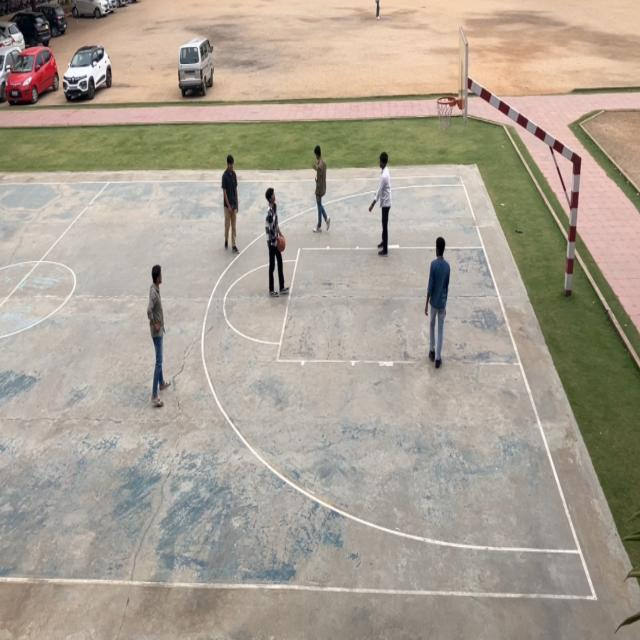basketball: (278, 233, 286, 253)
hoop: (435, 95, 456, 134)
